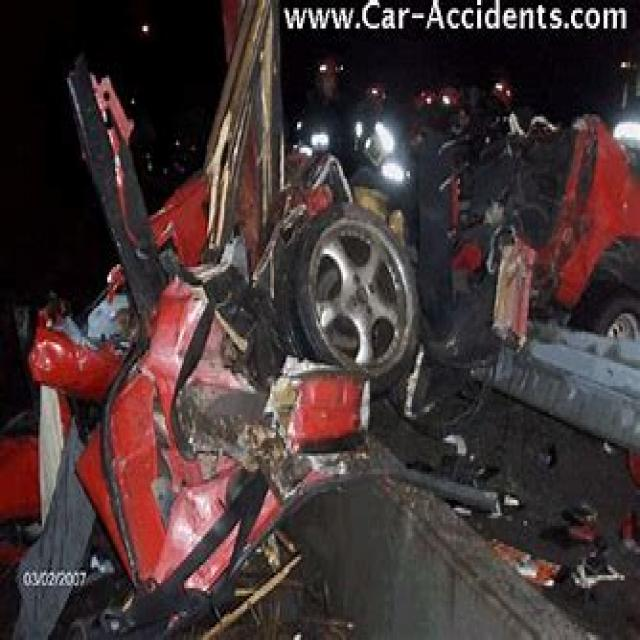Accident: (54, 30, 595, 640)
